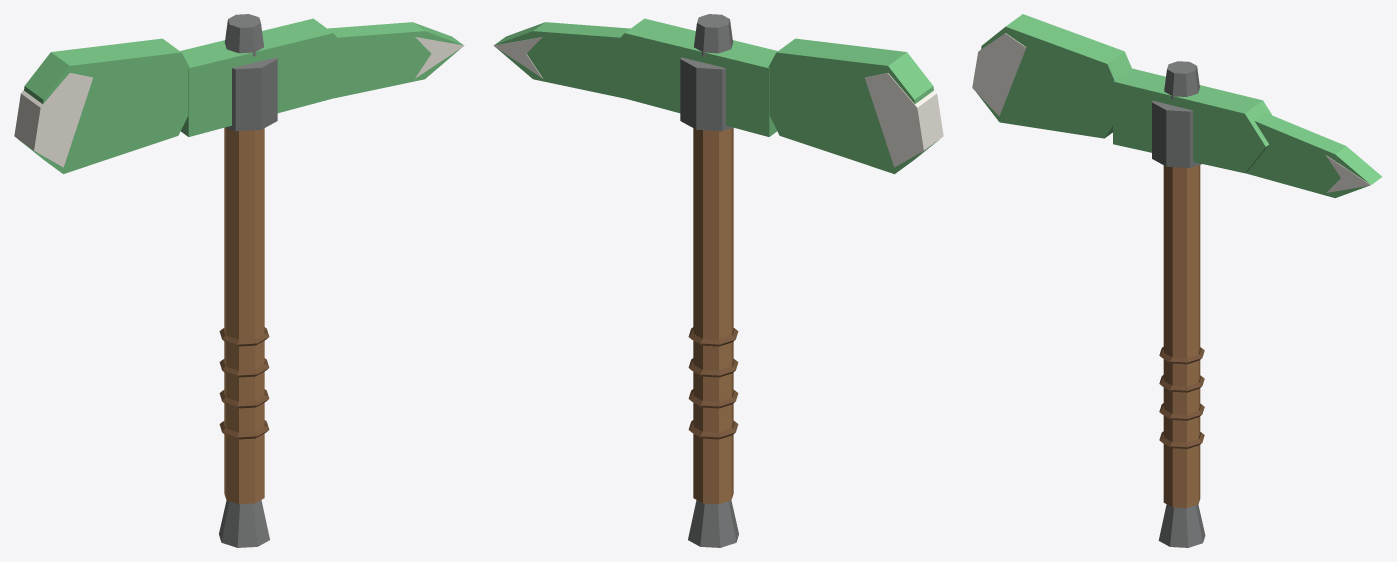
Rendered from t3_hammer.glb.
The picture shows the model from 3 angles, left to right: view 1: azimuth 30°, elevation 25°; view 2: azimuth 150°, elevation 25°; view 3: azimuth 330°, elevation 25°; orthographic projection. The views are drawn at different scales.
Parts seen in each view (by area): view 1: WoodHandle, HammerHead, HeadCore, ChiselPoint, HammerFace, HeadSocket, BottomPommel, TopCap, ChiselTip; view 2: WoodHandle, HammerHead, HeadCore, ChiselPoint, HammerFace, HeadSocket, BottomPommel, TopCap, ChiselTip; view 3: WoodHandle, HammerHead, HeadCore, ChiselPoint, HammerFace, HeadSocket, BottomPommel, TopCap, ChiselTip.
Boxes of the visible parts, left/top/right/bottom form: WoodHandle: left=224, top=127, right=264, bottom=504; HammerHead: left=18, top=38, right=189, bottom=174; HeadCore: left=180, top=18, right=356, bottom=136; ChiselPoint: left=327, top=22, right=463, bottom=98; HammerFace: left=14, top=73, right=92, bottom=167; HeadSocket: left=225, top=57, right=277, bottom=131; BottomPommel: left=219, top=500, right=269, bottom=547; TopCap: left=224, top=14, right=263, bottom=56; ChiselTip: left=415, top=37, right=464, bottom=78; WoodHandle: left=693, top=127, right=733, bottom=504; HammerHead: left=768, top=38, right=939, bottom=174; HeadCore: left=601, top=18, right=777, bottom=136; ChiselPoint: left=494, top=22, right=630, bottom=98; HammerFace: left=865, top=73, right=943, bottom=167; HeadSocket: left=680, top=57, right=732, bottom=131; BottomPommel: left=688, top=500, right=738, bottom=547; TopCap: left=694, top=14, right=733, bottom=56; ChiselTip: left=493, top=37, right=542, bottom=78; WoodHandle: left=1163, top=165, right=1200, bottom=508; HammerHead: left=976, top=14, right=1131, bottom=138; HeadCore: left=1113, top=68, right=1272, bottom=173; ChiselPoint: left=1245, top=113, right=1381, bottom=198; HammerFace: left=972, top=33, right=1026, bottom=116; HeadSocket: left=1152, top=100, right=1201, bottom=167; BottomPommel: left=1158, top=504, right=1205, bottom=547; TopCap: left=1164, top=61, right=1199, bottom=99; ChiselTip: left=1326, top=155, right=1382, bottom=192.
Size of the model in its own units: 1.32 by 1.52 by 0.18.
